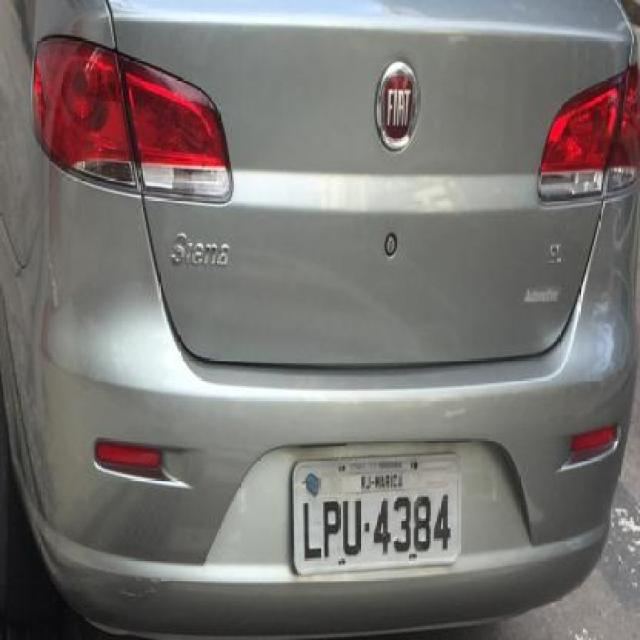old_plate: (285, 449, 466, 579)
